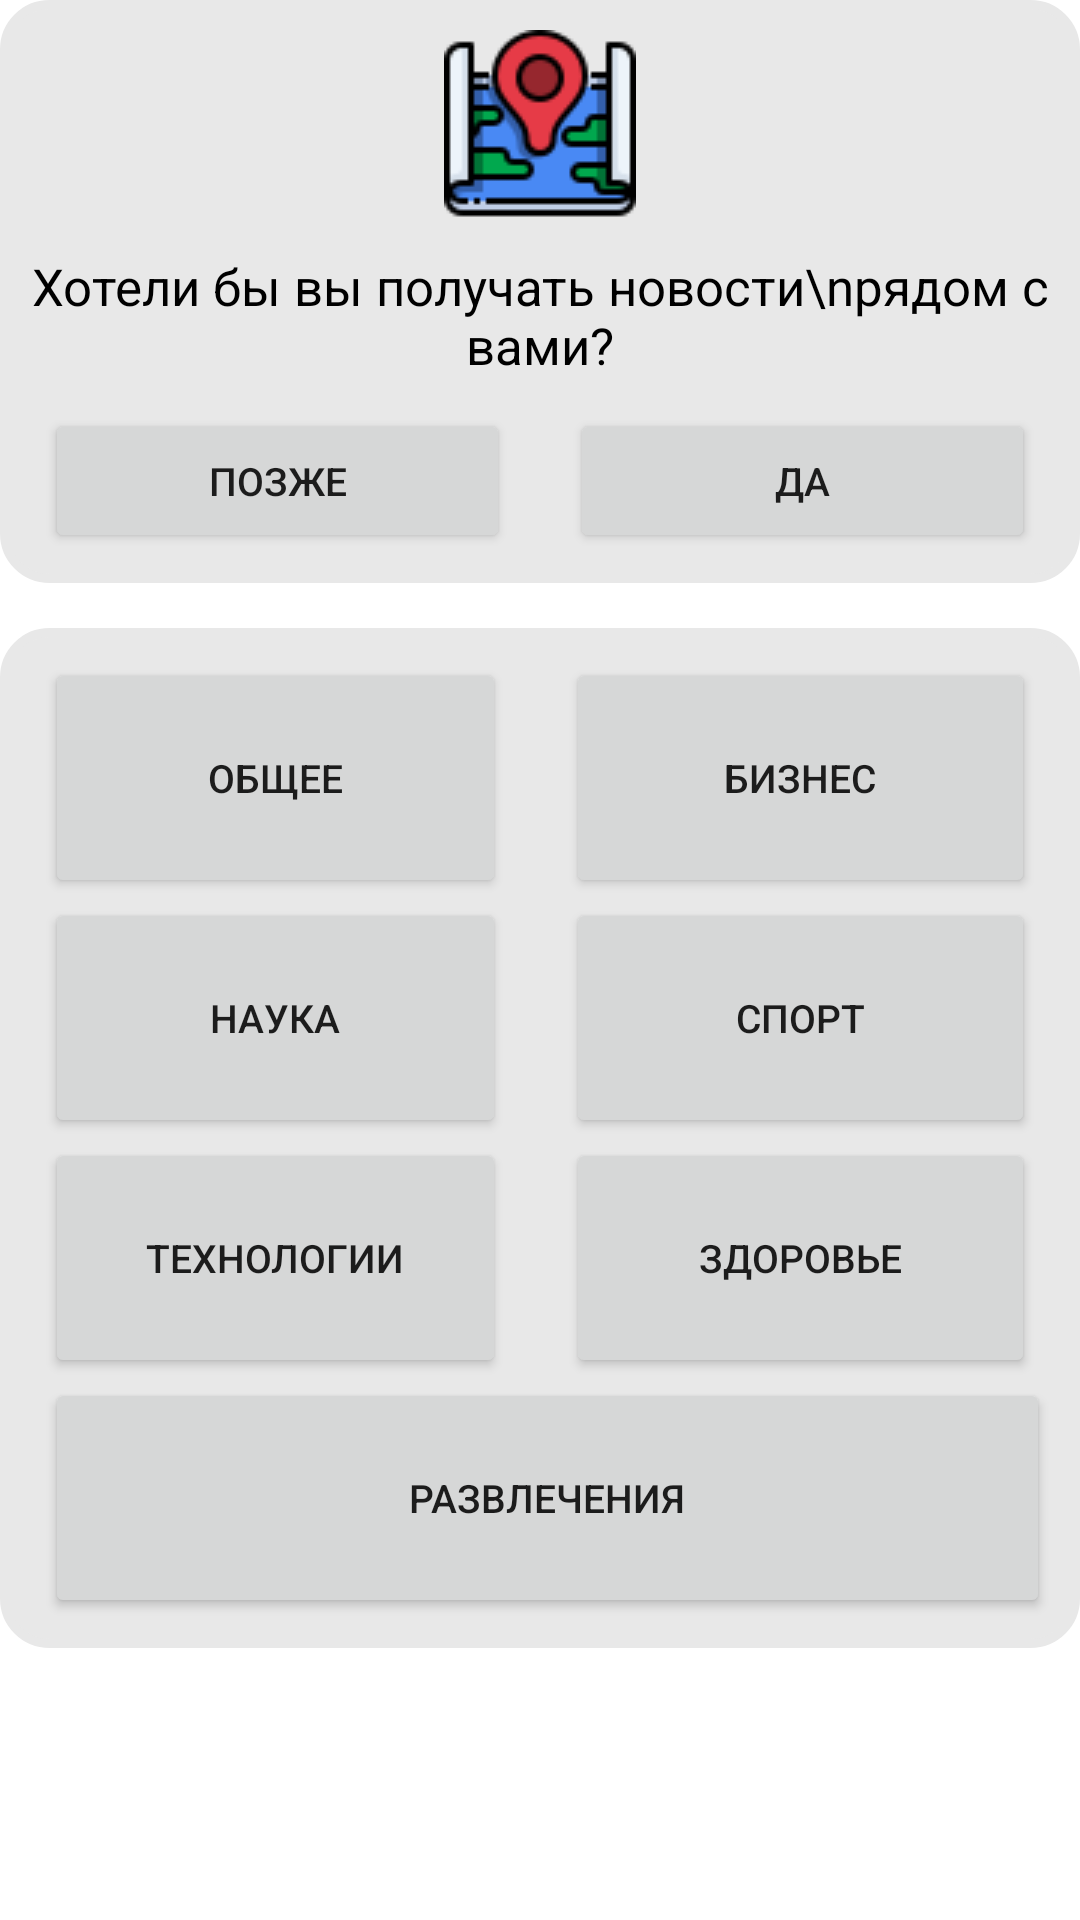

Named icons in this screenshot (1080 x 1920) and their centers, point (x, y):
map: point (540, 123)
